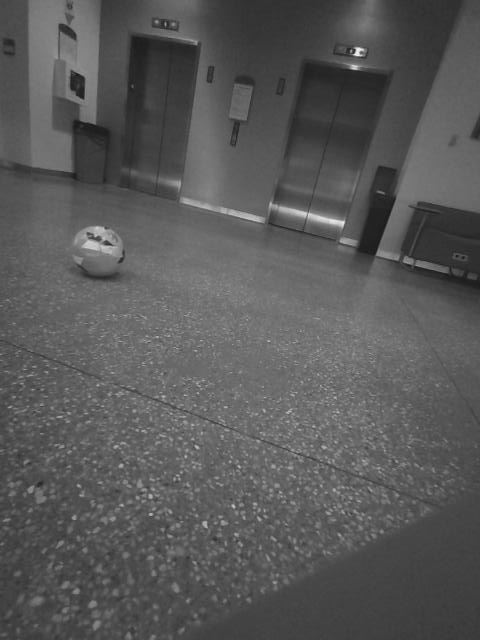ball: (348, 275, 406, 329)
